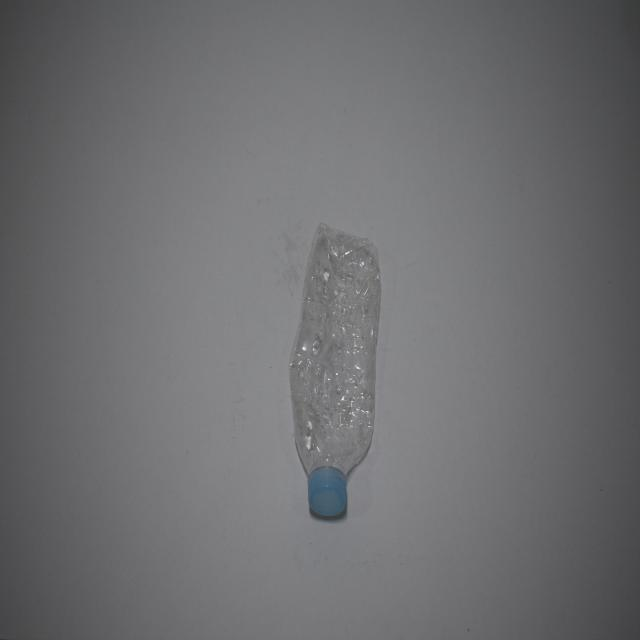empty: (291, 226, 382, 518)
